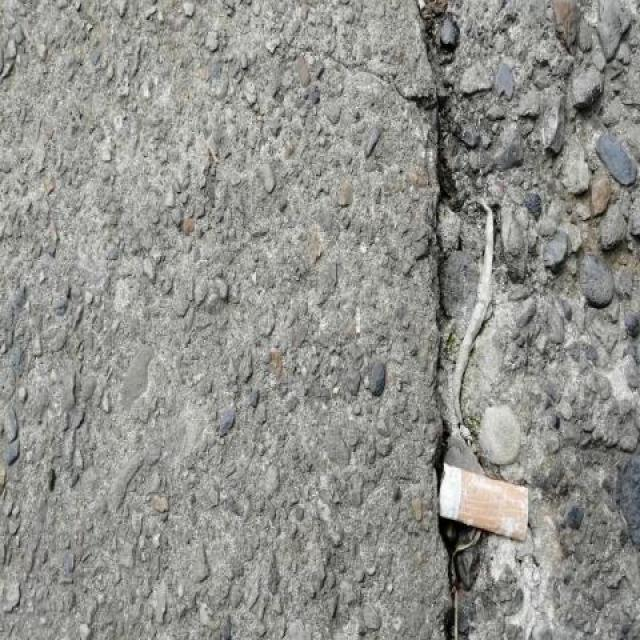non-organic waste: (435, 459, 534, 544)
